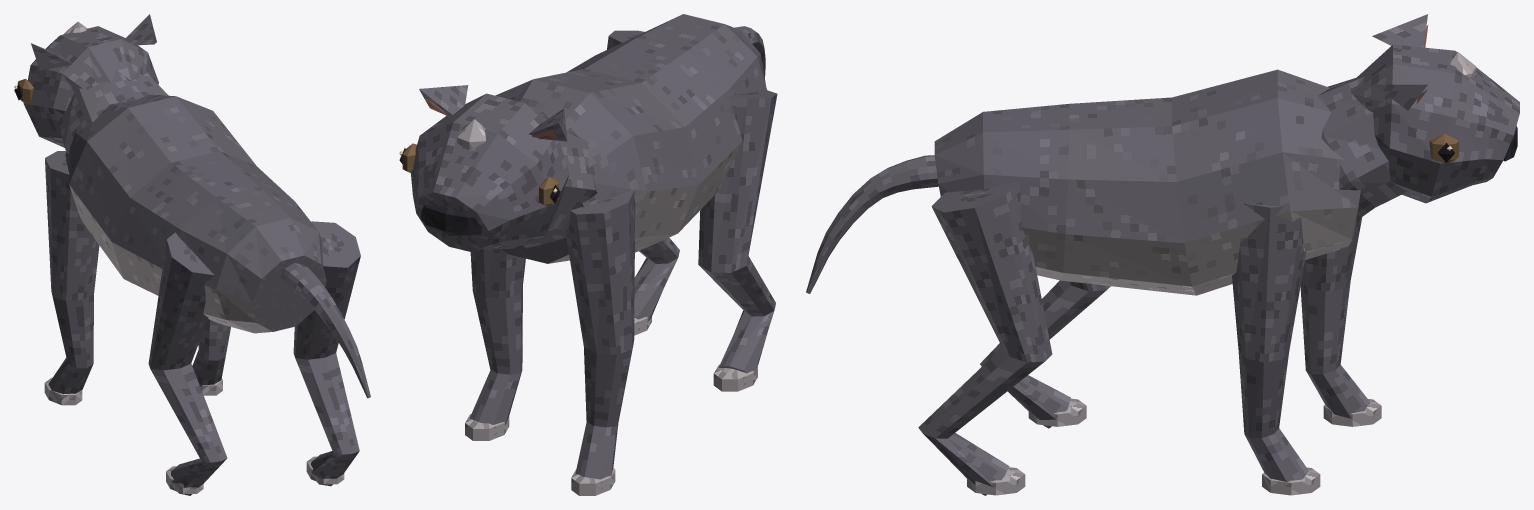
The model's file is mon_dog_pitbullmix.glb.
The picture shows the model from 3 angles, left to right: view 1: azimuth 30°, elevation 25°; view 2: azimuth 150°, elevation 25°; view 3: azimuth 270°, elevation 25°; orthographic projection. The views are drawn at different scales.
Parts seen in each view (by area): view 1: closed_body; view 2: closed_body; view 3: closed_body.
Part boxes in pixels (x1,y1,x2,y2): closed_body: (14, 14, 370, 495); closed_body: (399, 14, 777, 495); closed_body: (806, 14, 1519, 495).
Bounding box in the file's own units: 0.3718 × 0.7532 × 1.19.
1 material, 1 textured.
